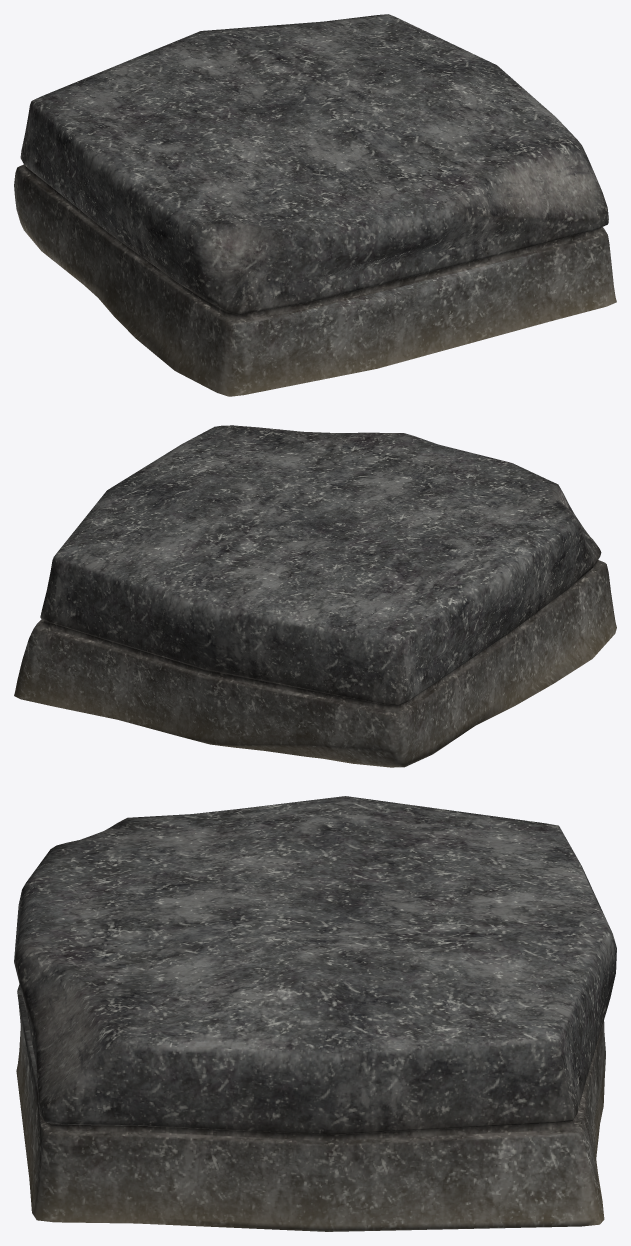
The picture shows the model from 3 angles, top to bottom: view 1: azimuth 30°, elevation 25°; view 2: azimuth 150°, elevation 25°; view 3: azimuth 270°, elevation 25°; orthographic projection. The views are drawn at different scales.
Visible parts, largest first — view 1: Base2; view 2: Base2; view 3: Base2.
Boxes of the visible parts, x1,y1,x2,y2 form: Base2: (14, 14, 616, 396); Base2: (14, 425, 616, 767); Base2: (14, 796, 616, 1231).
Bounding box in the file's own units: 2.17 × 0.7899 × 2.18.
